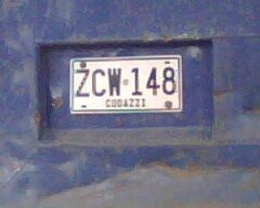placas: (68, 54, 183, 115)
